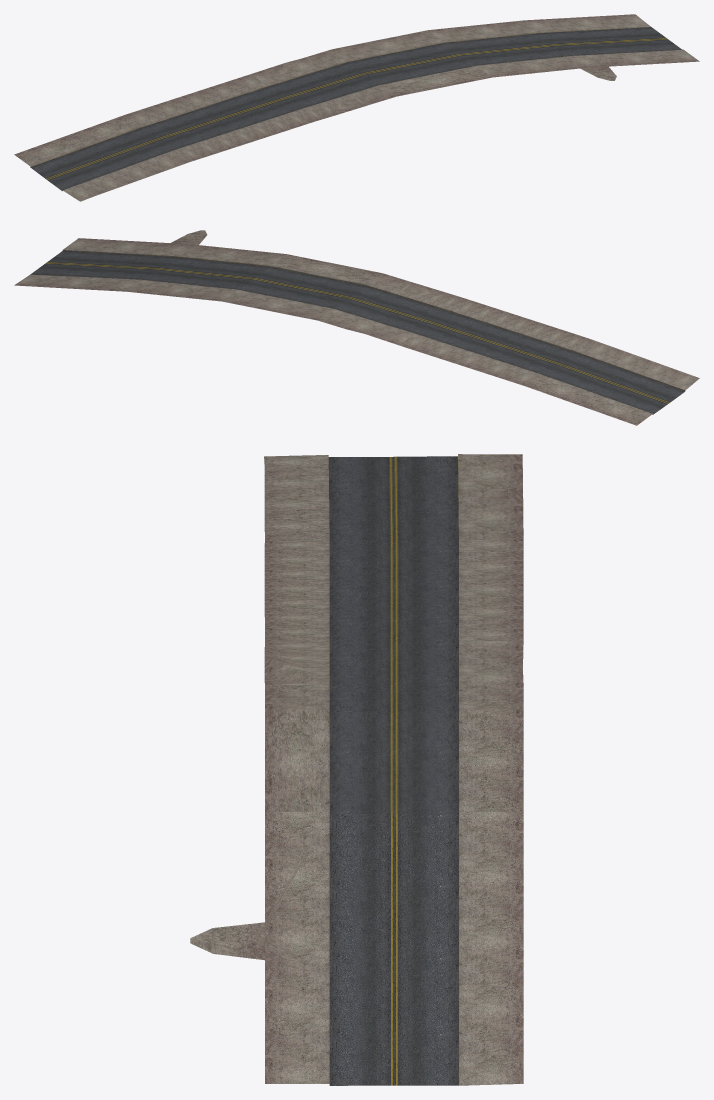
File: lae2_roads81.obj
The picture shows the model from 3 angles, top to bottom: view 1: azimuth 30°, elevation 25°; view 2: azimuth 150°, elevation 25°; view 3: azimuth 270°, elevation 25°; orthographic projection. The views are drawn at different scales.
Visible parts, largest first — view 1: Lae2_roads81; view 2: Lae2_roads81; view 3: Lae2_roads81.
Part boxes in pixels (<box>): Lae2_roads81: <box>14,14,699,201</box>; Lae2_roads81: <box>14,230,699,425</box>; Lae2_roads81: <box>190,454,523,1085</box>.
Bounding box in the file's own units: 111 × 6.82 × 25.78.
